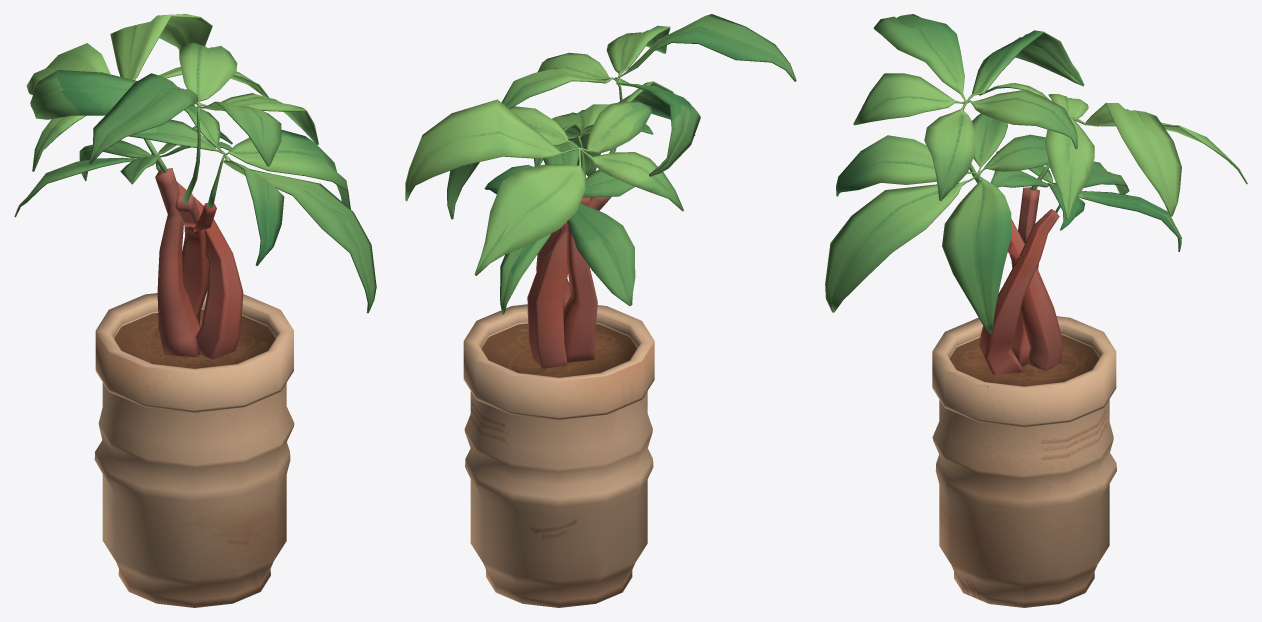
Rendered from money_tree_solid.fbx.
The picture shows the model from 3 angles, left to right: view 1: azimuth 30°, elevation 25°; view 2: azimuth 150°, elevation 25°; view 3: azimuth 270°, elevation 25°; orthographic projection. The views are drawn at different scales.
Visible parts, largest first — view 1: Cylinder, Plane.003, Plane, Plane.001, Cube.001, Cube.002, Plane.005, Cube; view 2: Cylinder, Plane.001, Plane.003, Plane.005, Cube, Cube.001, Plane; view 3: Cylinder, Plane, Plane.003, Plane.001, Cube.002, Plane.005, Cube, Cube.001.
Boxes of the visible parts, x1,y1,x2,y2 form: Cylinder: (94, 291, 294, 607); Plane.003: (30, 42, 318, 203); Plane: (129, 105, 376, 313); Plane.001: (26, 14, 268, 172); Cube.001: (155, 168, 200, 357); Cube.002: (177, 182, 243, 359); Plane.005: (14, 126, 232, 217); Cube: (175, 193, 216, 323); Cylinder: (463, 304, 654, 607); Plane.001: (405, 99, 683, 275); Plane.003: (501, 14, 796, 176); Plane.005: (484, 140, 635, 314); Cube: (527, 196, 611, 368); Cube.001: (563, 197, 597, 362); Plane: (447, 81, 695, 219); Cylinder: (932, 316, 1116, 607); Plane: (825, 113, 1048, 334); Plane.003: (853, 14, 1084, 201); Plane.001: (979, 83, 1247, 219); Cube.002: (978, 209, 1059, 374); Plane.005: (990, 151, 1181, 251); Cube: (1007, 219, 1063, 370); Cube.001: (1011, 187, 1039, 366).
Size of the model in its own units: 232 by 397 by 297.
2 materials, 2 textured.
